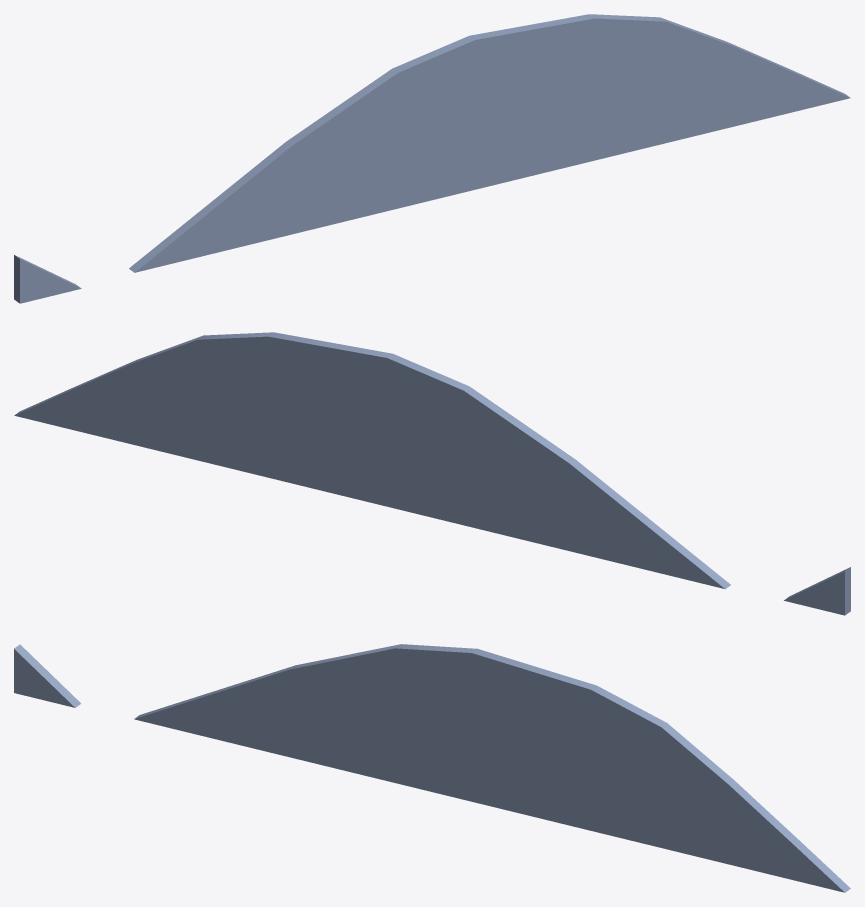
Rendered from frame_0087.glb.
The picture shows the model from 3 angles, top to bottom: view 1: azimuth 30°, elevation 25°; view 2: azimuth 150°, elevation 25°; view 3: azimuth 330°, elevation 25°; orthographic projection.
Visible parts, largest first — view 1: export_trees_001.002; view 2: export_trees_001.002; view 3: export_trees_001.002.
Part boxes in pixels (x1,y1,x2,y2): export_trees_001.002: (14,14,850,303); export_trees_001.002: (14,332,850,615); export_trees_001.002: (14,644,850,892).
Size of the model in its own units: 0.3393 by 0.0582 by 0.00629.
